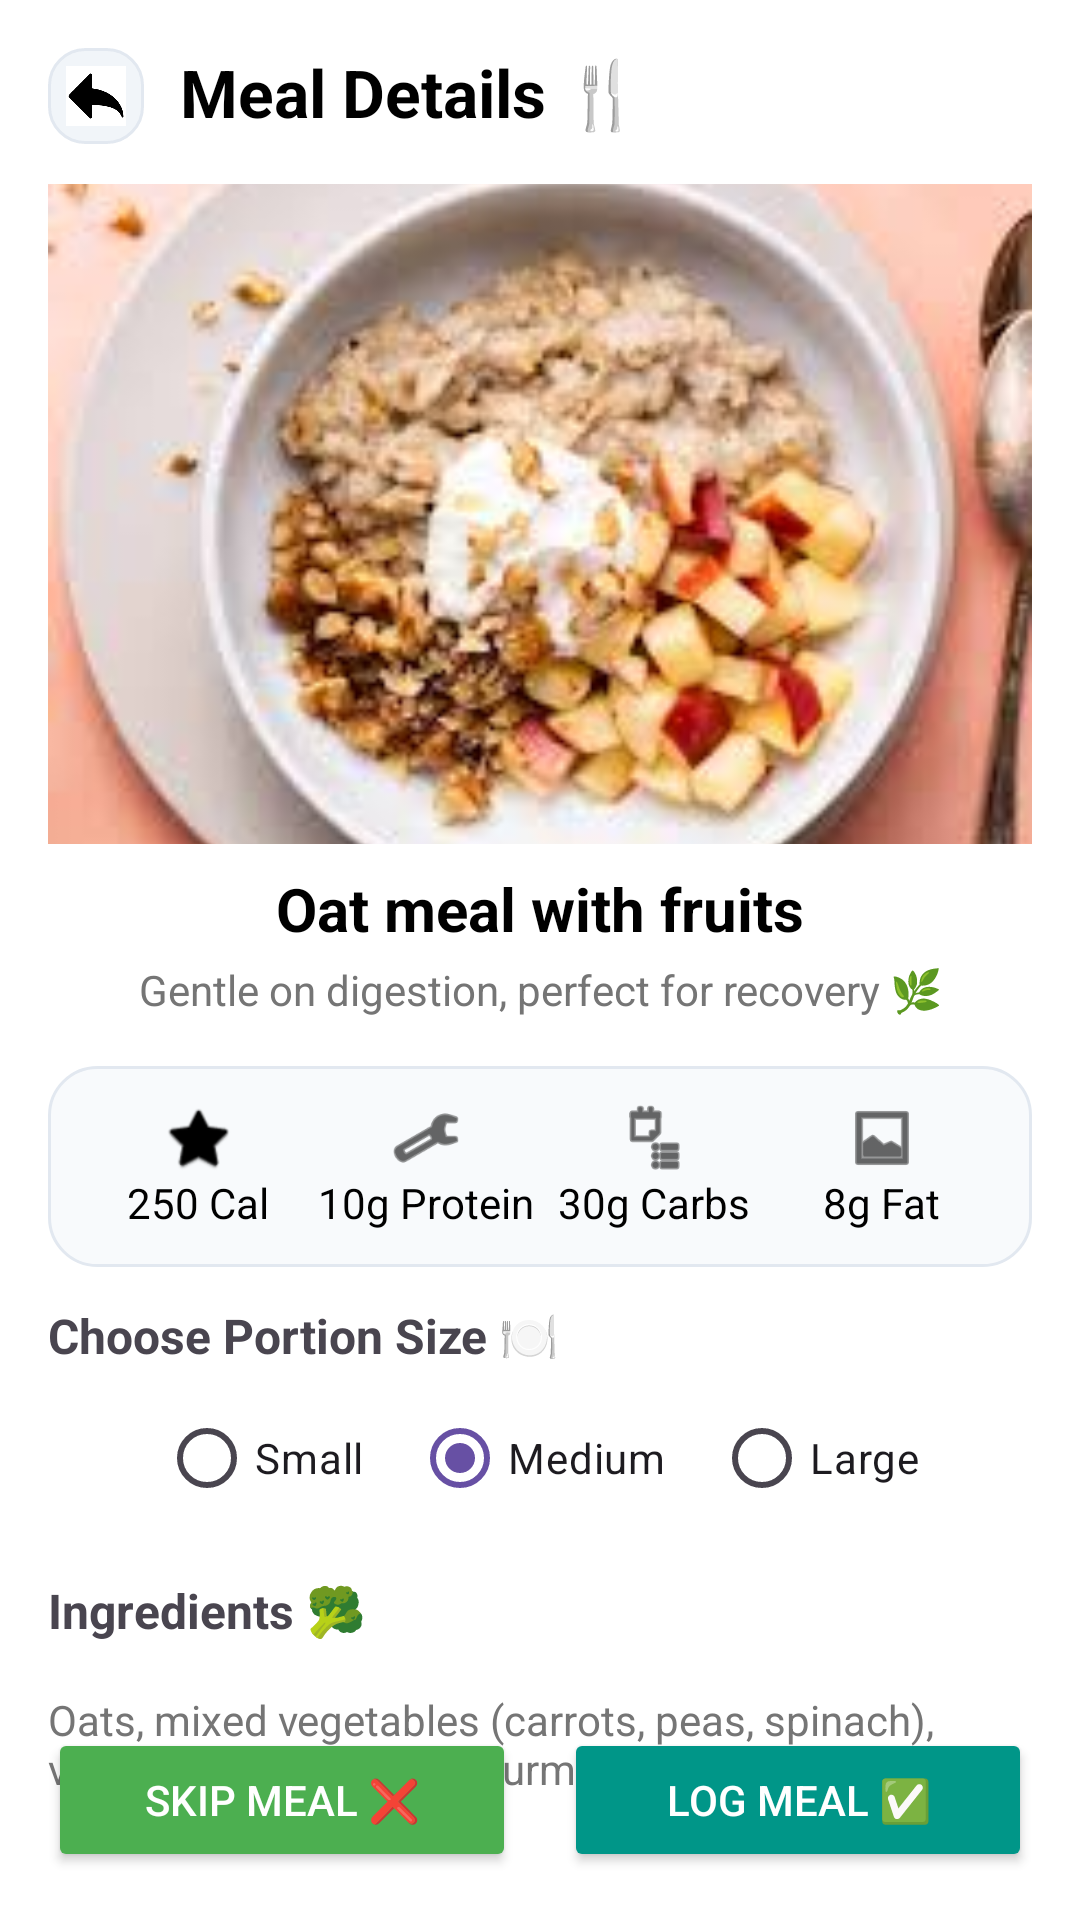

Named icons in this screenshot (1080*1920) and their bounding boxes, Rect(x1, y1, x2, y2):
Back: Rect(48, 48, 144, 144)
